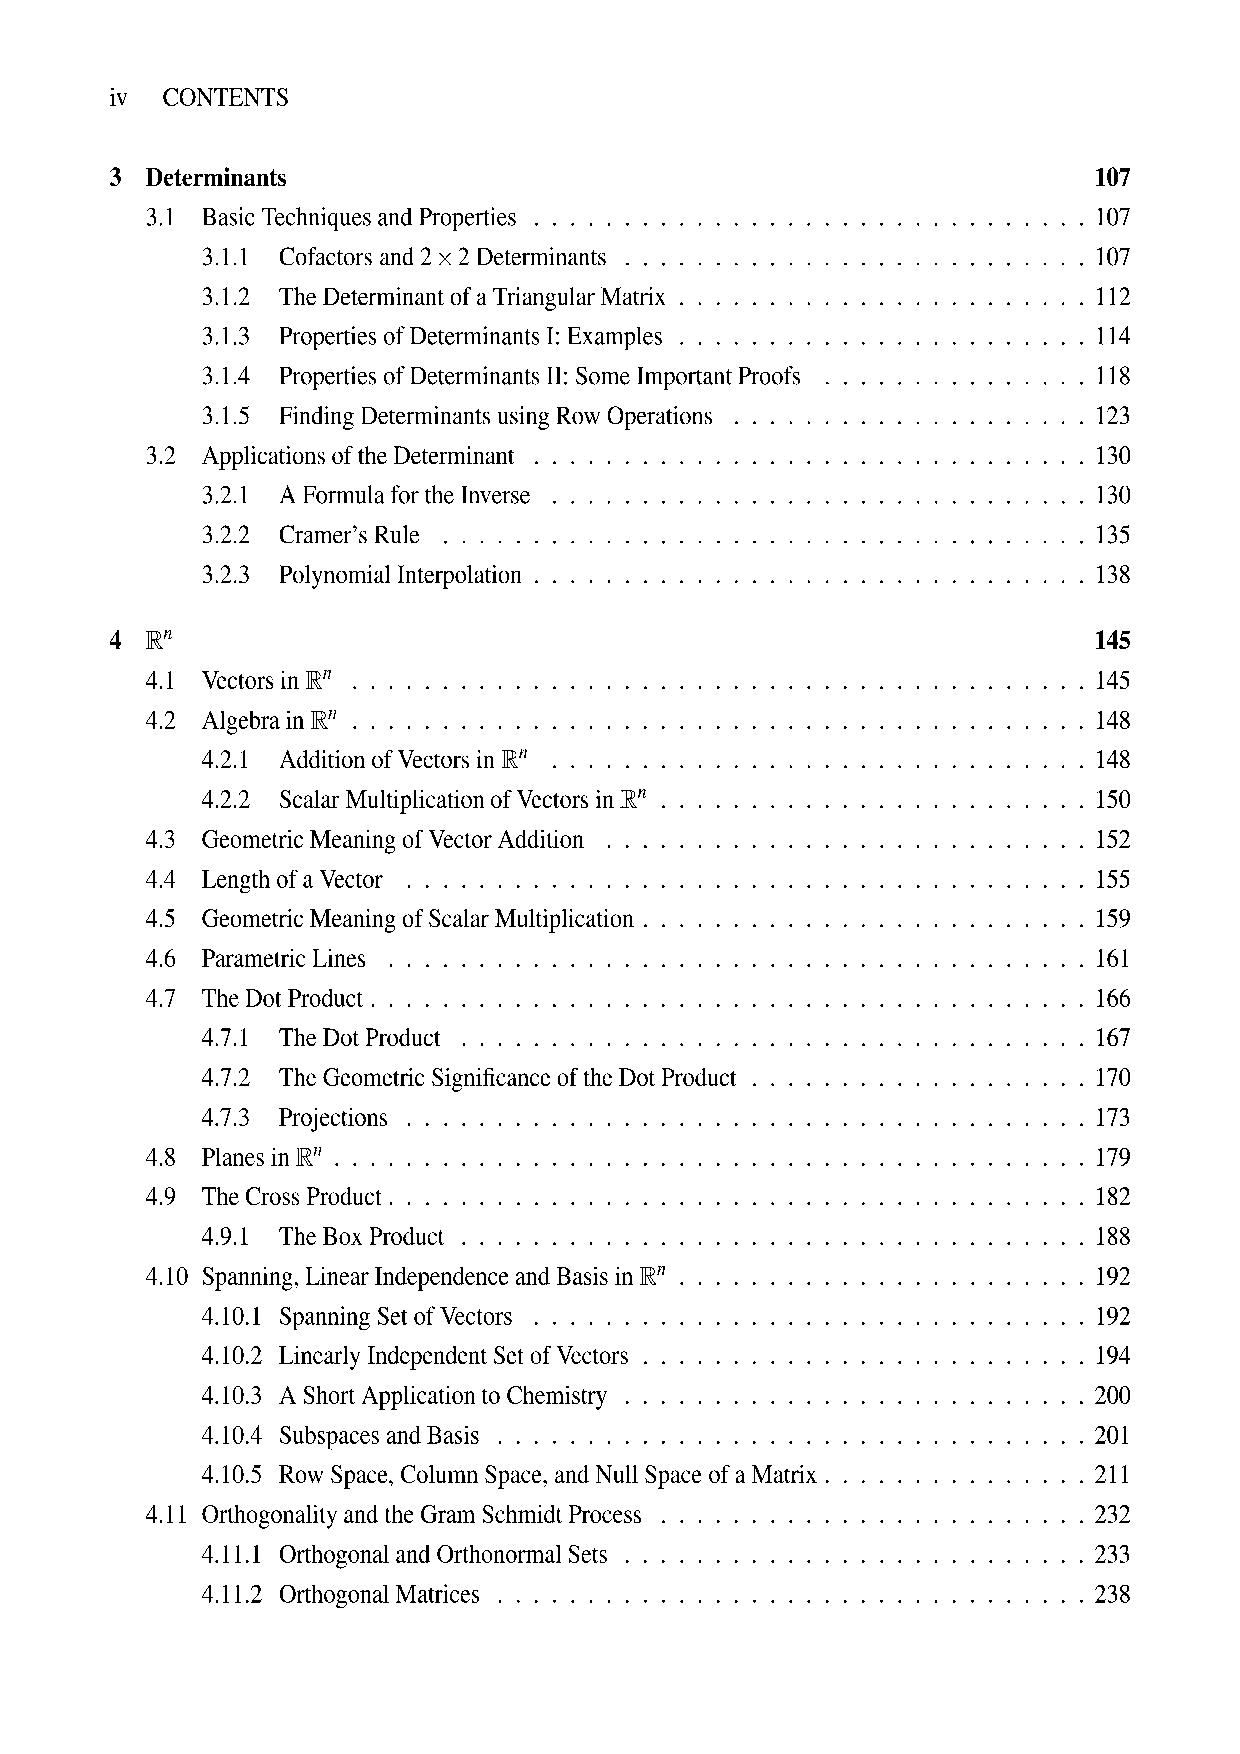TOC_chapter: (195, 1051, 752, 1092), (196, 354, 804, 392), (195, 1456, 820, 1486), (140, 900, 640, 937), (196, 397, 717, 431), (199, 317, 668, 352), (195, 278, 672, 311), (141, 819, 590, 852), (144, 1261, 670, 1290), (195, 784, 654, 816), (140, 196, 521, 234), (195, 1337, 629, 1369), (199, 238, 615, 271), (144, 1500, 647, 1527), (134, 436, 518, 470), (196, 1381, 605, 1410), (201, 557, 527, 593), (196, 1298, 519, 1334), (196, 1539, 611, 1567), (187, 1015, 450, 1056), (196, 476, 534, 509), (196, 745, 530, 772), (144, 859, 391, 895), (134, 1182, 392, 1216), (195, 1580, 484, 1609), (199, 1221, 450, 1253), (199, 519, 425, 552), (195, 1102, 393, 1138), (130, 1141, 329, 1177), (137, 942, 377, 972), (201, 1423, 482, 1447), (137, 981, 365, 1011), (141, 666, 340, 699), (109, 157, 289, 193), (141, 705, 337, 735), (105, 621, 178, 660)
TOC_pagenumber: (1091, 619, 1143, 660), (1086, 153, 1134, 195), (1088, 400, 1139, 432), (1091, 1453, 1139, 1486), (1091, 476, 1143, 505), (1091, 203, 1137, 235), (1092, 436, 1138, 468), (1098, 1015, 1143, 1047), (1091, 278, 1134, 311), (1086, 1063, 1139, 1090), (1092, 521, 1141, 550), (1091, 1298, 1139, 1327), (1091, 1143, 1143, 1170), (1098, 981, 1141, 1013), (1091, 667, 1137, 697), (1092, 784, 1138, 813), (1092, 1255, 1138, 1284), (1092, 1420, 1138, 1449), (1091, 1342, 1143, 1368), (1091, 1381, 1141, 1408), (1088, 903, 1137, 930), (1098, 743, 1139, 774), (1095, 361, 1138, 391), (1088, 562, 1139, 586), (1092, 242, 1134, 271), (1092, 322, 1134, 352), (1095, 866, 1137, 895), (1095, 1184, 1137, 1213), (1092, 705, 1129, 738), (1095, 1221, 1137, 1249), (1088, 825, 1137, 849), (1088, 1543, 1137, 1567), (1098, 1102, 1134, 1131), (1091, 1582, 1139, 1604), (1095, 942, 1129, 972), (1092, 1502, 1137, 1522)
chapter: (153, 83, 299, 111)
